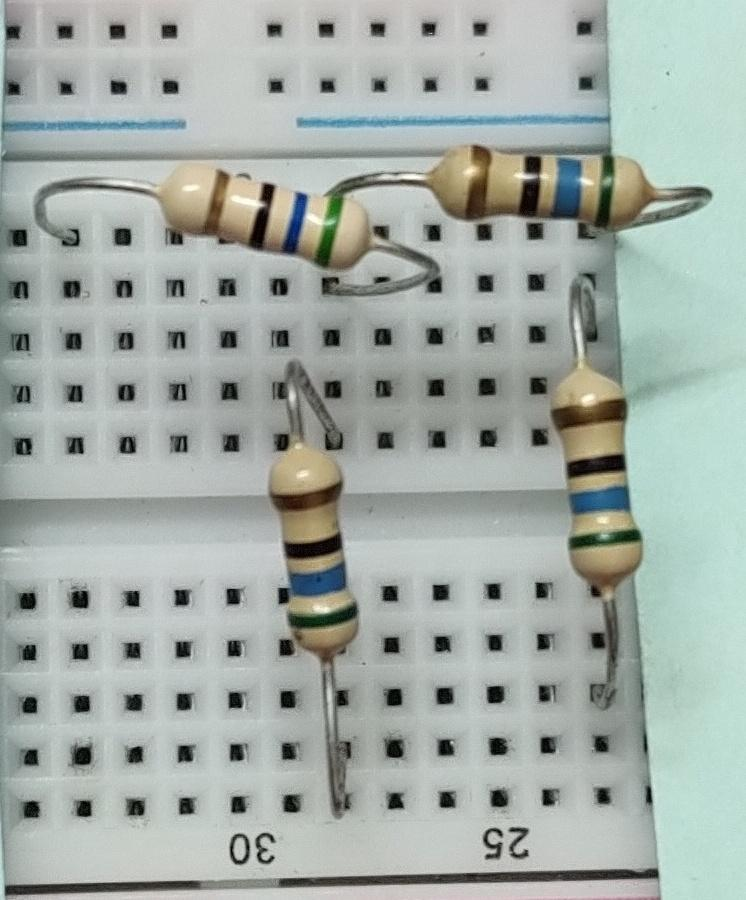resistor: (260, 429, 390, 668), (544, 362, 665, 608), (155, 154, 395, 272), (425, 130, 658, 233)
